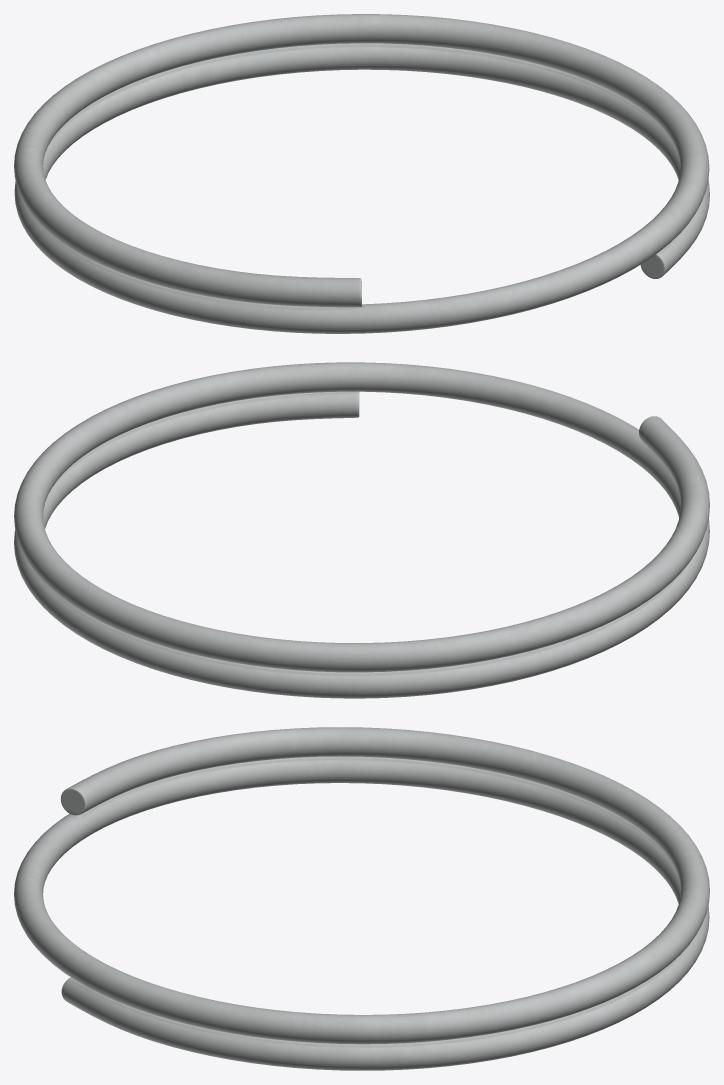
File: KeyRing_sub2.fbx
The picture shows the model from 3 angles, top to bottom: view 1: azimuth 30°, elevation 25°; view 2: azimuth 150°, elevation 25°; view 3: azimuth 270°, elevation 25°; orthographic projection.
Parts seen in each view (by area): view 1: KeyRing_new; view 2: KeyRing_new; view 3: KeyRing_new.
Part boxes in pixels (x1,y1,x2,y2): KeyRing_new: [14, 14, 709, 333]; KeyRing_new: [14, 362, 709, 698]; KeyRing_new: [14, 727, 709, 1070].
Bounding box in the file's own units: 3.13 × 0.3523 × 3.13.
